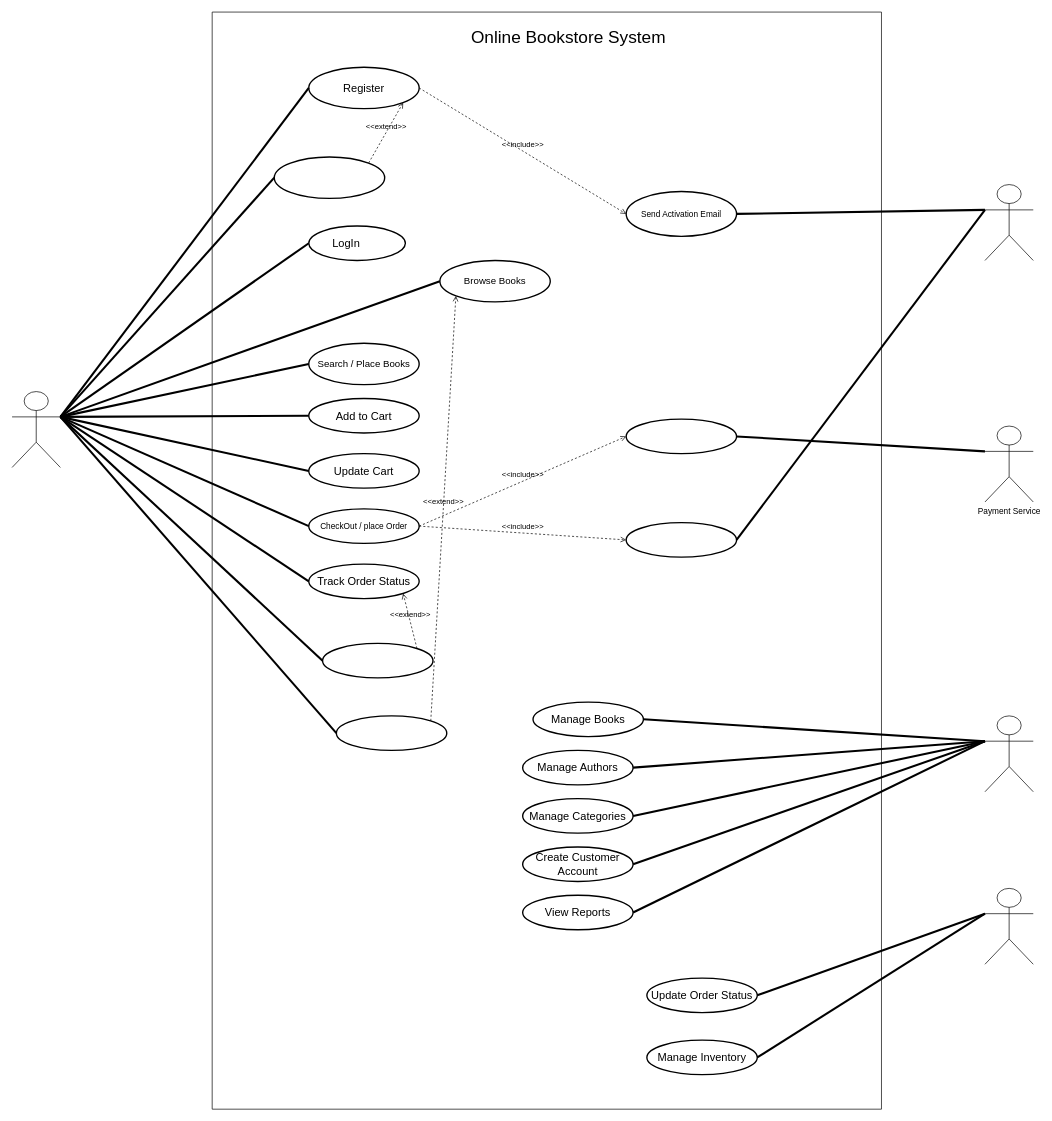
Image size: 1052x1121. Some labels were removed from this diagram. Here are the shapes that lost their labels. From the top down, the box of each, then its label:
(273, 156, 385, 199): Activate Account
(984, 184, 1033, 260): EmailSystem
(11, 391, 60, 467): Customer
(625, 418, 737, 454): Process Payment
(625, 522, 737, 558): Send Order Confirmation
(322, 642, 433, 678): Reorder Previous Order
(335, 715, 447, 751): View Recommendation
(984, 715, 1033, 792): Admin
(984, 888, 1033, 964): OrderManager
